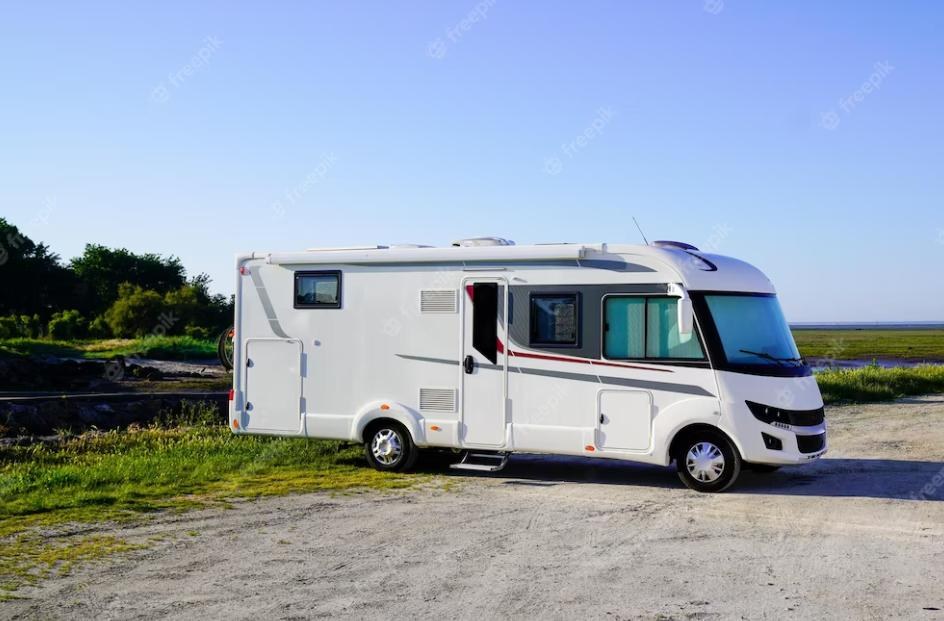vehicle: (230, 238, 826, 492)
